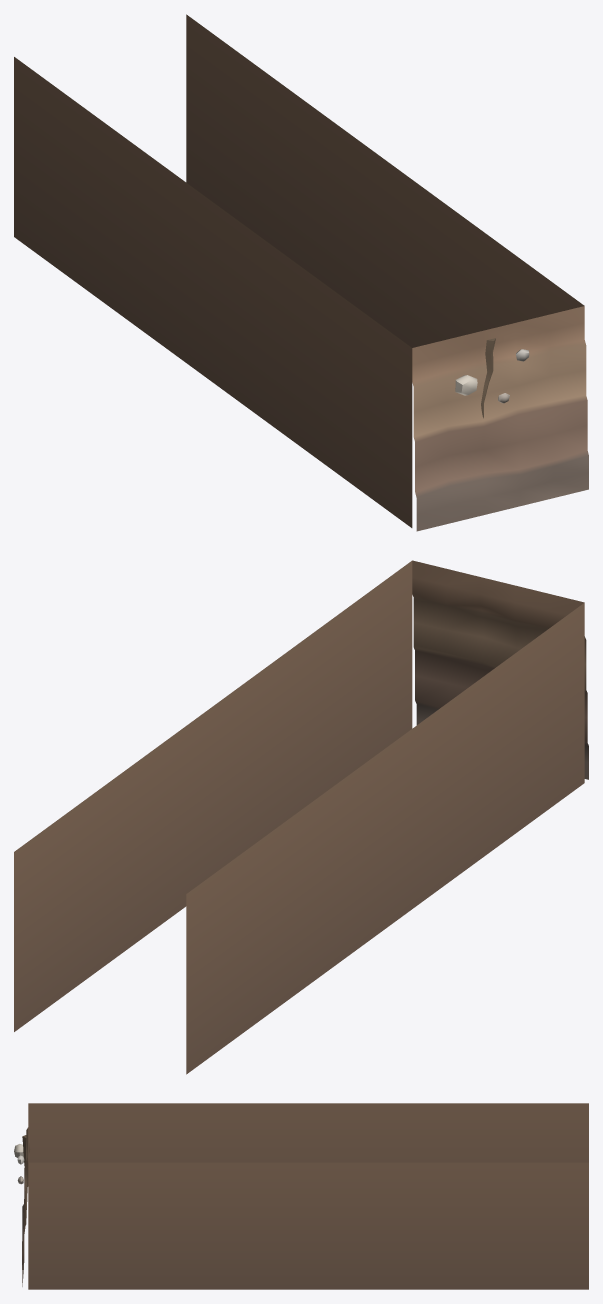
File: groundlite_earth_4.glb
3 renders of one model, top to bottom at view 1: azimuth 30°, elevation 25°; view 2: azimuth 150°, elevation 25°; view 3: azimuth 270°, elevation 25°, orthographic. The views are drawn at different scales.
Parts seen in each view (by area): view 1: groundlite_earth_4; view 2: groundlite_earth_4; view 3: groundlite_earth_4.
Part boxes in pixels (x1=…): groundlite_earth_4: x1=14, y1=14, x2=588, y2=531; groundlite_earth_4: x1=14, y1=560, x2=588, y2=1074; groundlite_earth_4: x1=14, y1=1103, x2=588, y2=1289.
Bounding box in the file's own units: 1 × 1 × 4.1.
